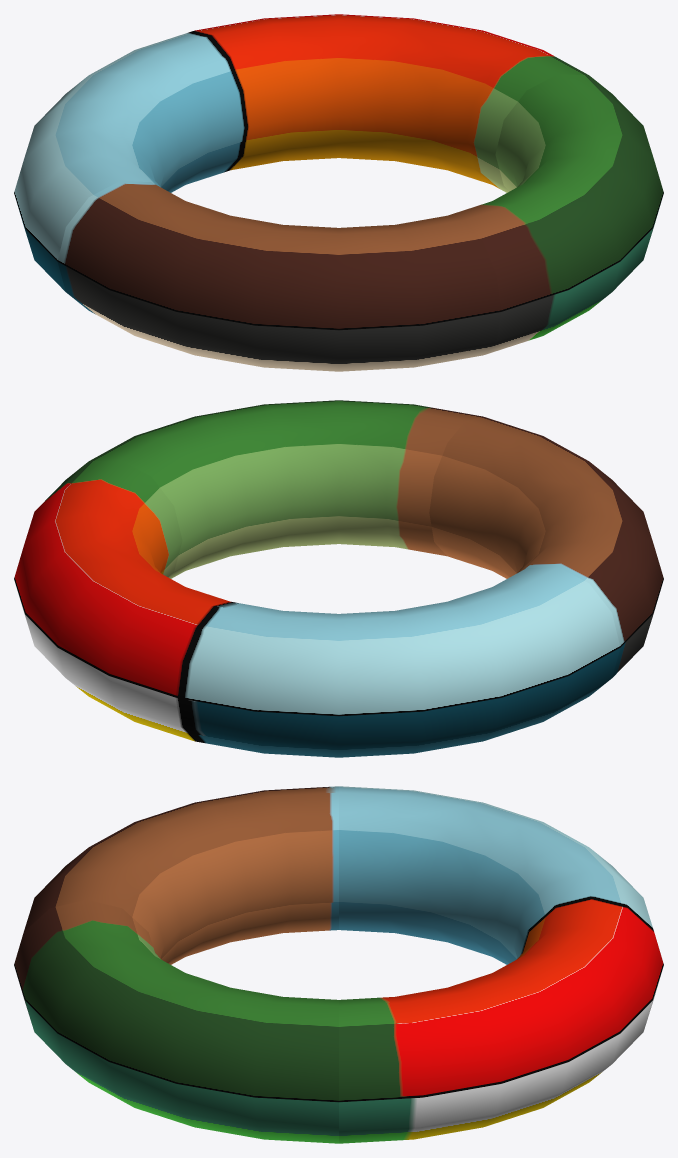
Rendered from BuoyCommunity.fbx.
3 views of the same model, one above another, from view 1: azimuth 30°, elevation 25°; view 2: azimuth 150°, elevation 25°; view 3: azimuth 270°, elevation 25° (orthographic).
Parts seen in each view (by area): view 1: Boei; view 2: Boei; view 3: Boei.
Part boxes in pixels (x1=…): Boei: x1=14, y1=14, x2=663, y2=371; Boei: x1=14, y1=400, x2=663, y2=757; Boei: x1=14, y1=786, x2=663, y2=1143.
Bounding box in the file's own units: 1.67 × 0.3702 × 1.67.
Materials: 2 (2 with a texture image).
